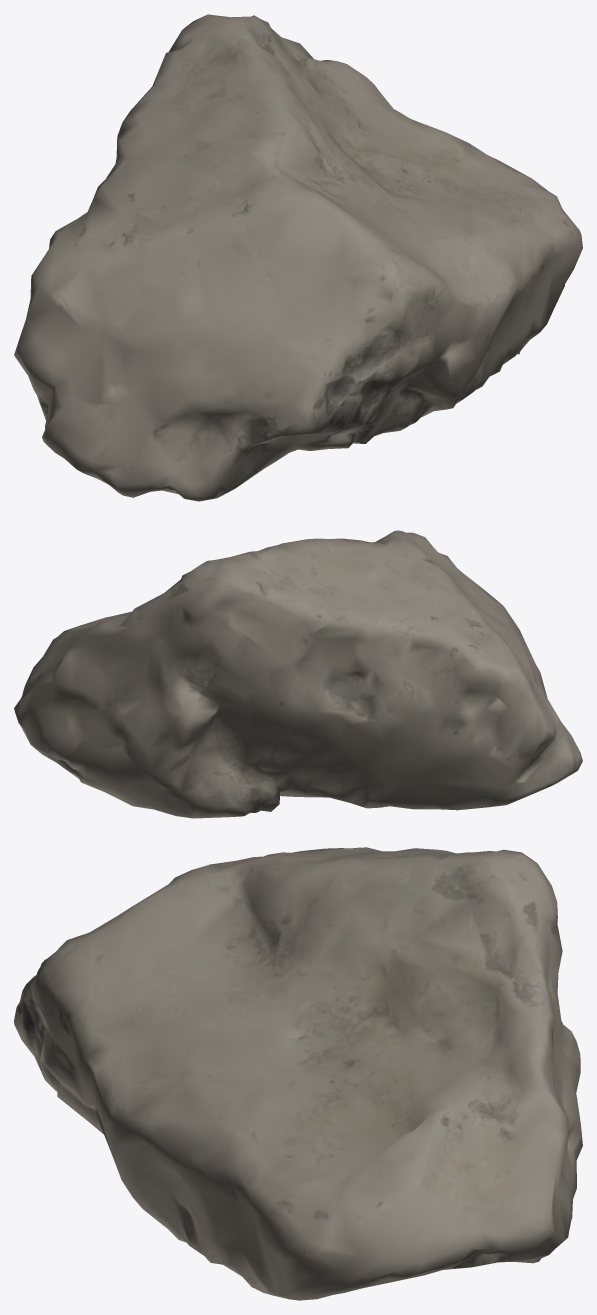
Rendered from moon_rock_03.glb.
3 renders of one model, top to bottom at view 1: azimuth 30°, elevation 25°; view 2: azimuth 150°, elevation 25°; view 3: azimuth 270°, elevation 25°, orthographic. The views are drawn at different scales.
Parts seen in each view (by area): view 1: moon_rock_03_LOD0; view 2: moon_rock_03_LOD0; view 3: moon_rock_03_LOD0.
Boxes of the visible parts, x1=… form: moon_rock_03_LOD0: x1=14, y1=14, x2=582, y2=501; moon_rock_03_LOD0: x1=14, y1=530, x2=582, y2=818; moon_rock_03_LOD0: x1=14, y1=847, x2=582, y2=1300.
Size of the model in its own units: 0.112 by 0.0582 by 0.0861.
Materials: 1 (1 with a texture image).
